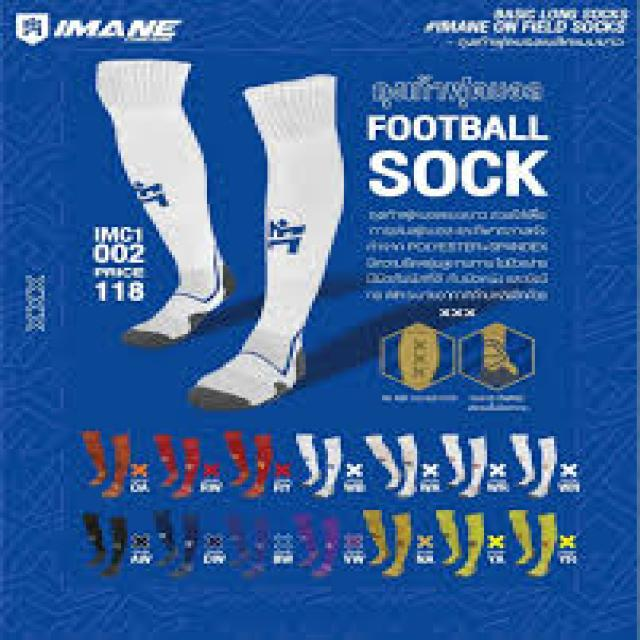sock: (185, 72, 344, 410)
